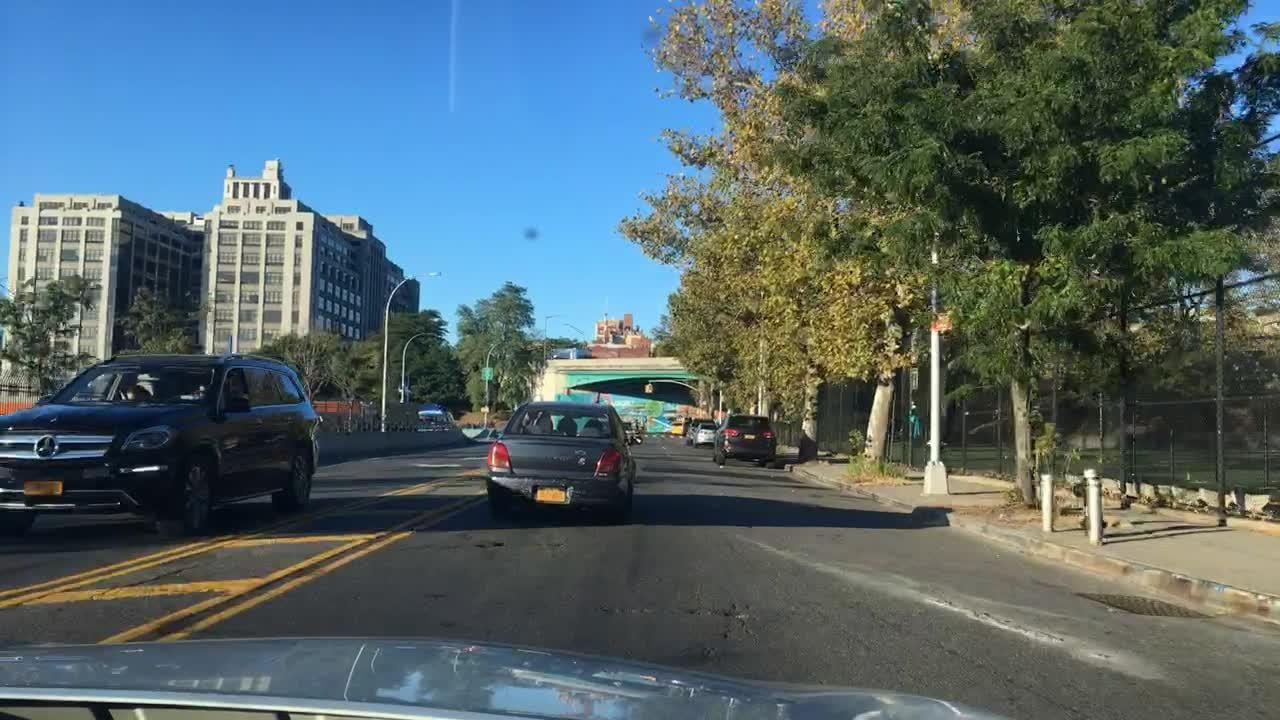Mercedes: (30, 434, 62, 460)
